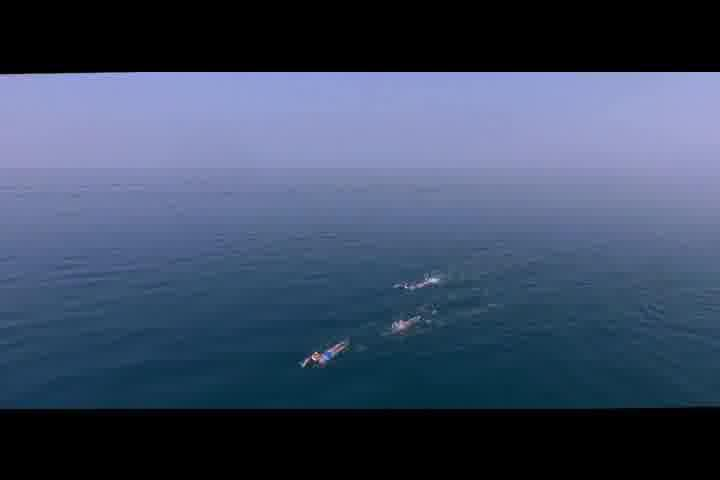swimmer: (305, 337, 348, 370), (386, 314, 426, 341), (399, 268, 437, 293)
